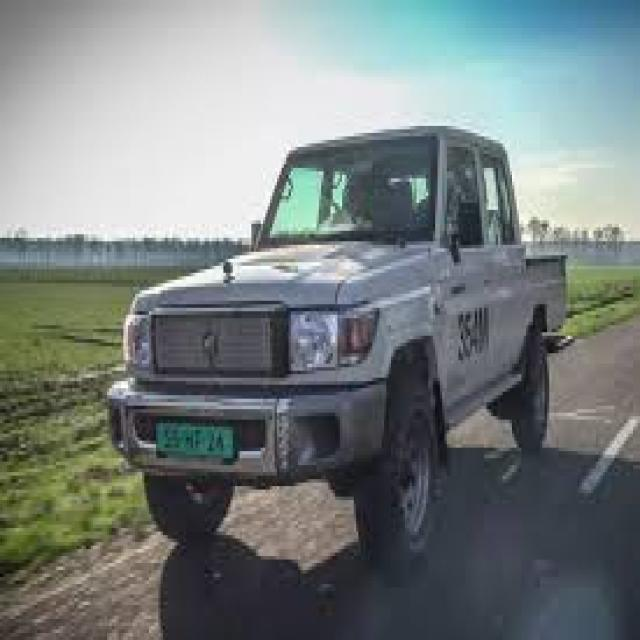light_vehicle: (137, 112, 577, 549)
